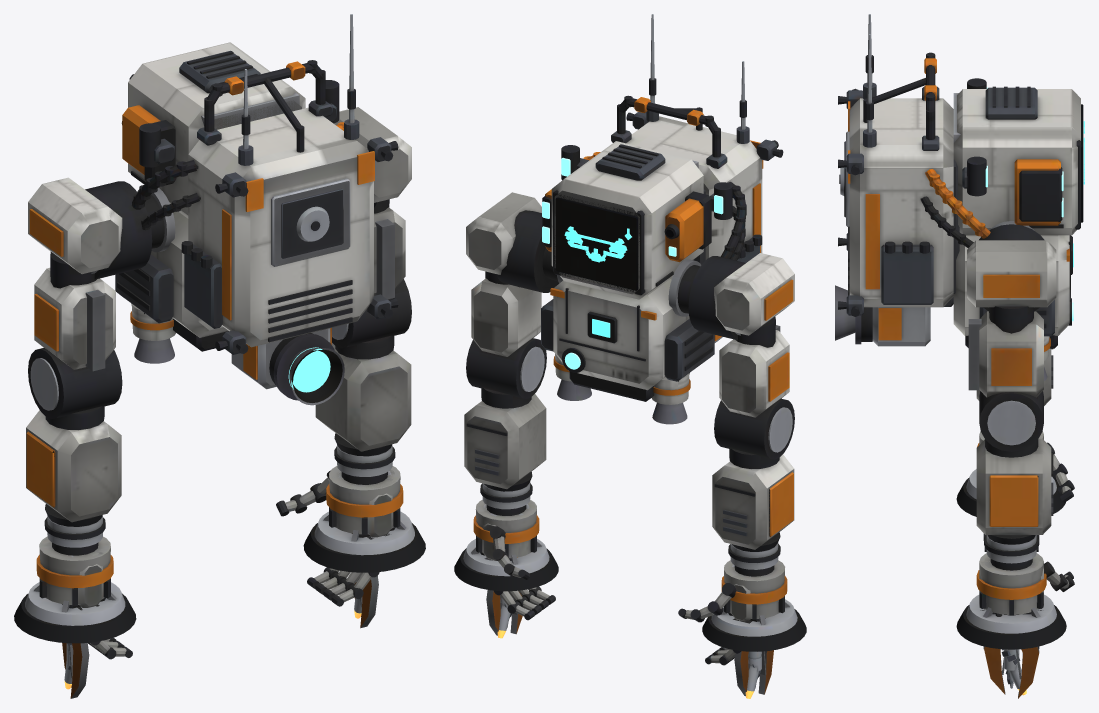
Rendered from eva-tsumugi.glb.
3 renders of one model, left to right at view 1: azimuth 30°, elevation 25°; view 2: azimuth 150°, elevation 25°; view 3: azimuth 270°, elevation 25°, orthographic. The views are drawn at different scales.
Parts seen in each view (by area): view 1: Body, Shoulder_L, Fore_L, Head, Fore_R, MainJet, Shoulder_R, Tool_pad_R, Tool_pad_L, Tool_hand_R, Tool_drill_R, Tool_drill_L (+6 smaller); view 2: Body, Head, Shoulder_L, Shoulder_R, Fore_L, Fore_R, Tool_pad_L, Tool_pad_R, Tool_hand_R, Tool_drill_L, Tool_drill_R, Tool_hand_L (+7 smaller); view 3: Body, Head, Shoulder_R, Fore_R, Tool_pad_R, MainJet, Tool_drill_R, Tool_cutter_R, Wrist_R, Tool_pad_L, Tool_hand_L, Tool_hand_R (+2 smaller).
Boxes of the visible parts, left/top/right/bottom form: Body: left=115, top=14, right=398, bottom=354; Shoulder_L: left=28, top=177, right=152, bottom=371; Fore_L: left=26, top=348, right=122, bottom=526; Head: left=121, top=42, right=305, bottom=216; Fore_R: left=315, top=279, right=411, bottom=456; MainJet: left=231, top=328, right=344, bottom=405; Shoulder_R: left=334, top=107, right=411, bottom=299; Tool_pad_R: left=303, top=471, right=425, bottom=572; Tool_pad_L: left=14, top=555, right=136, bottom=643; Tool_hand_R: left=276, top=470, right=393, bottom=606; Tool_drill_R: left=326, top=466, right=403, bottom=601; Tool_drill_L: left=36, top=536, right=113, bottom=671; Body: left=541, top=14, right=783, bottom=401; Head: left=542, top=141, right=711, bottom=299; Shoulder_L: left=688, top=253, right=794, bottom=417; Shoulder_R: left=466, top=192, right=559, bottom=356; Fore_L: left=712, top=398, right=794, bottom=551; Fore_R: left=464, top=338, right=546, bottom=491; Tool_pad_L: left=702, top=564, right=806, bottom=651; Tool_pad_R: left=454, top=504, right=558, bottom=591; Tool_hand_R: left=482, top=523, right=555, bottom=620; Tool_drill_L: left=721, top=560, right=787, bottom=688; Tool_drill_R: left=473, top=499, right=539, bottom=627; Tool_hand_L: left=678, top=583, right=752, bottom=665; Body: left=838, top=14, right=1073, bottom=348; Head: left=953, top=86, right=1083, bottom=235; Shoulder_R: left=967, top=224, right=1056, bottom=397; Fore_R: left=976, top=391, right=1053, bottom=544; Tool_pad_R: left=956, top=561, right=1066, bottom=649; MainJet: left=835, top=285, right=953, bottom=346; Tool_drill_R: left=976, top=553, right=1046, bottom=688; Tool_cutter_R: left=981, top=554, right=1042, bottom=698; Wrist_R: left=984, top=535, right=1039, bottom=563; Tool_pad_L: left=956, top=469, right=1065, bottom=516; Tool_hand_L: left=979, top=441, right=1074, bottom=551; Tool_hand_R: left=979, top=561, right=1074, bottom=648.
Bounding box in the file's own units: 0.7104 × 1.18 × 0.4315.
5 materials, 1 textured.
